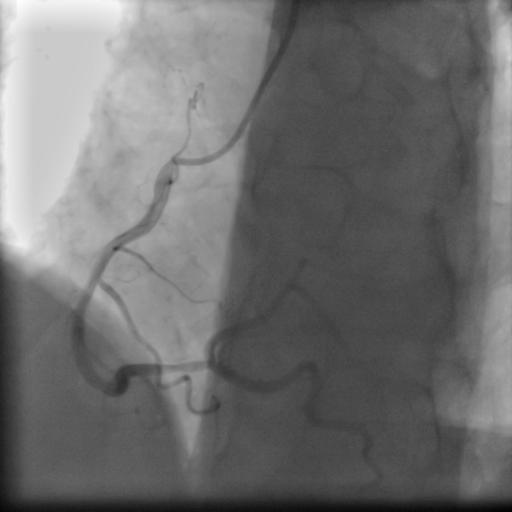Stenosis: (160, 357, 220, 377)
